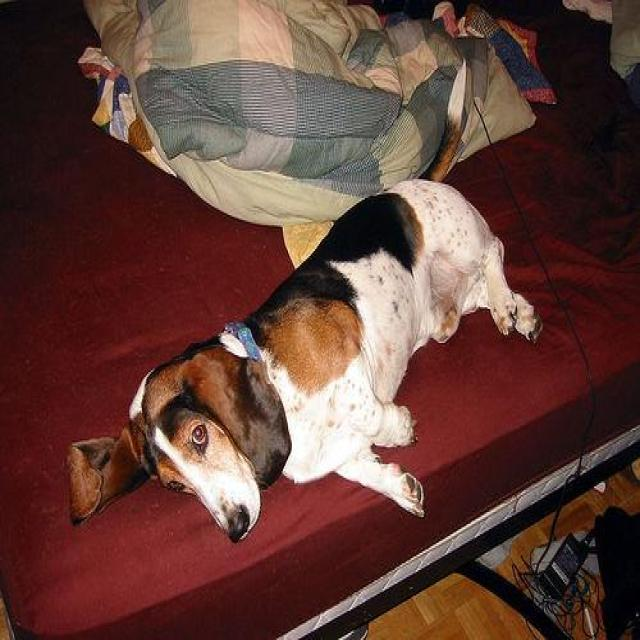basset: (68, 180, 543, 544)
